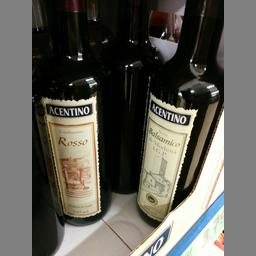vinegar: (135, 0, 224, 229), (34, 0, 110, 223)
